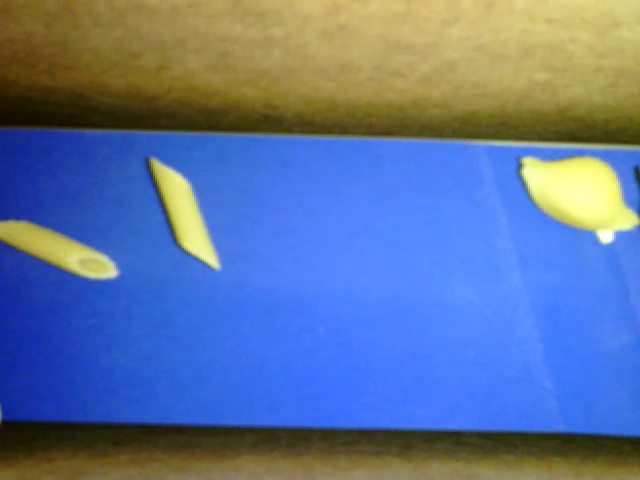penne: (148, 157, 221, 270), (1, 219, 120, 279)
shell: (519, 156, 638, 235)
